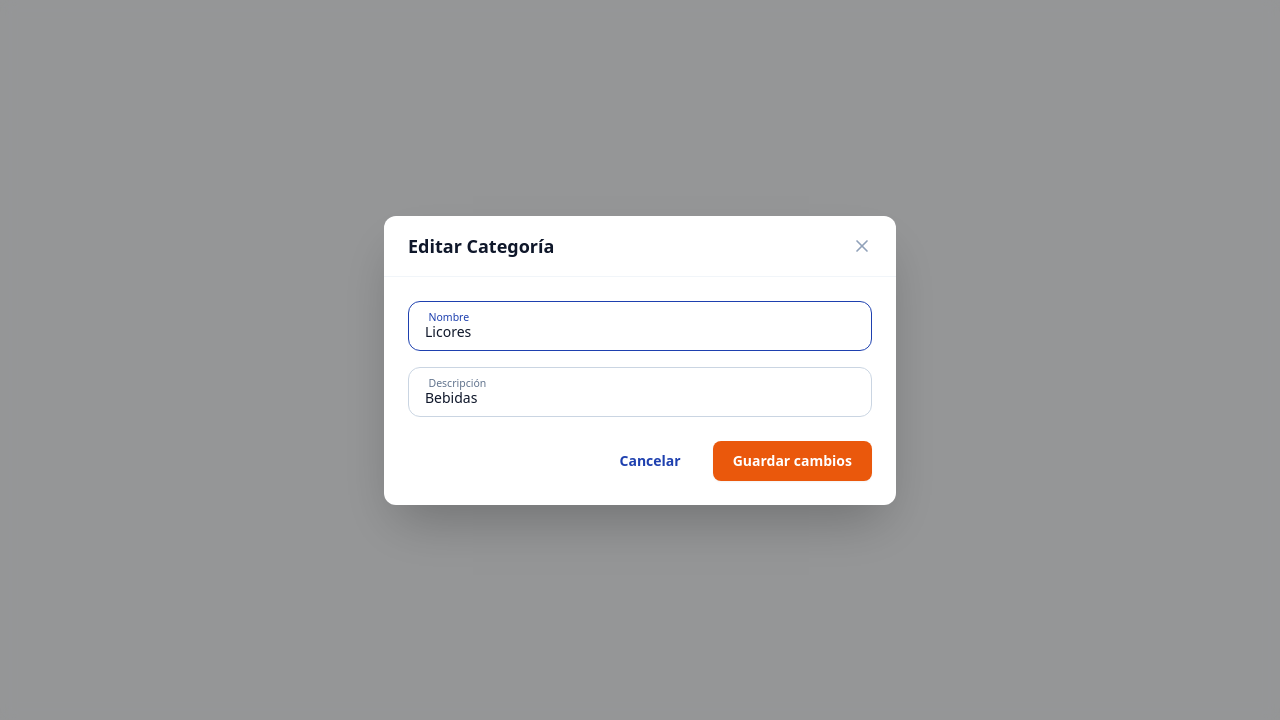
Test: EditCategoryModal › shows error on update failure
Click the button "Guardar cambios".
click(792, 460)  # box 713,440 -> 872,480
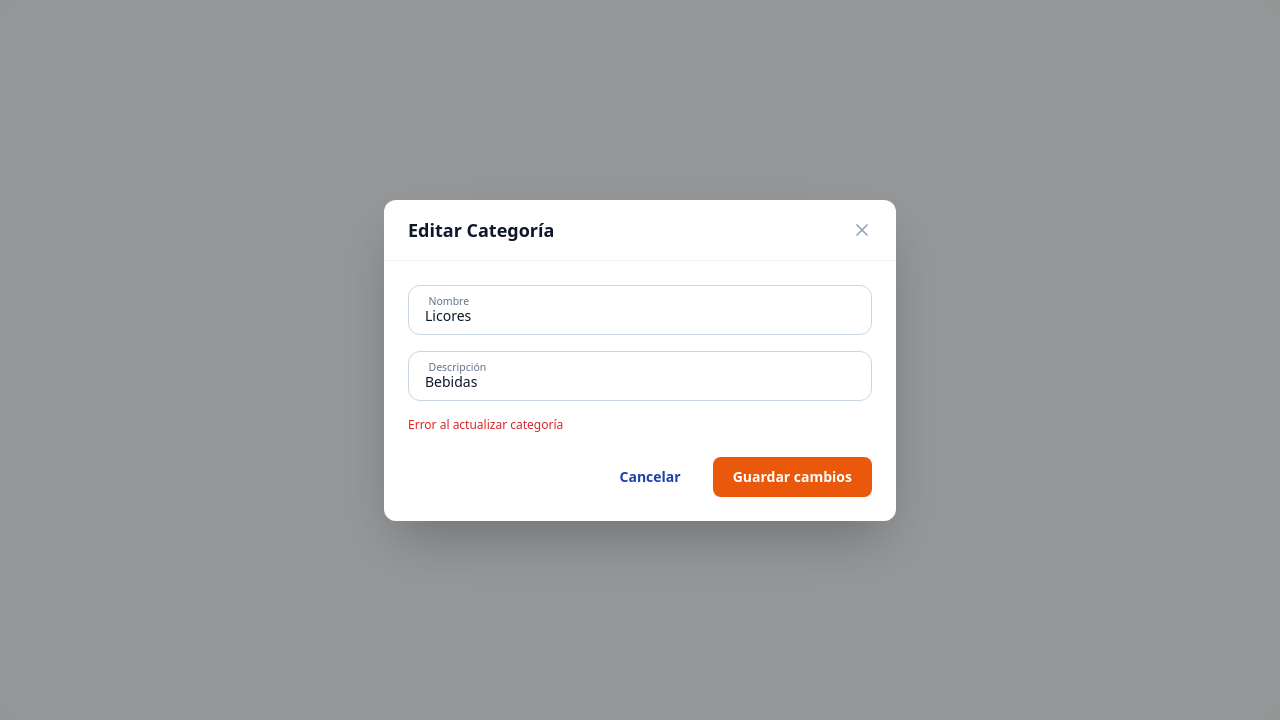
Result: the text "Error al actualizar categoría" is shown at 408,416 -> 563,432
